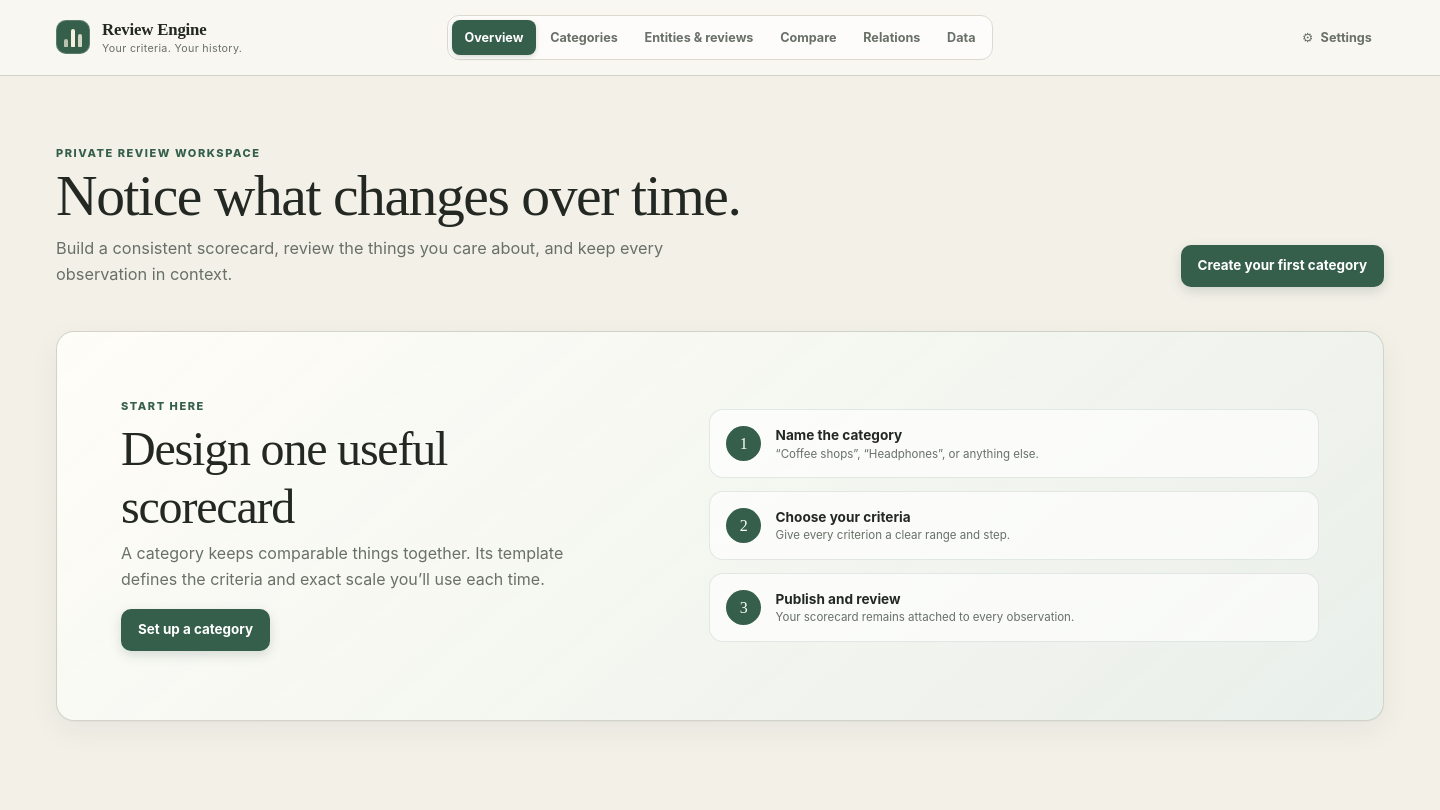
Test case: reference UI shell › updates the hash when a page action navigates programmatically
This screenshot has width=1440, height=810.
Click the button "Set up a category". click: click(196, 630)
box: left=121, top=609, right=270, bottom=651
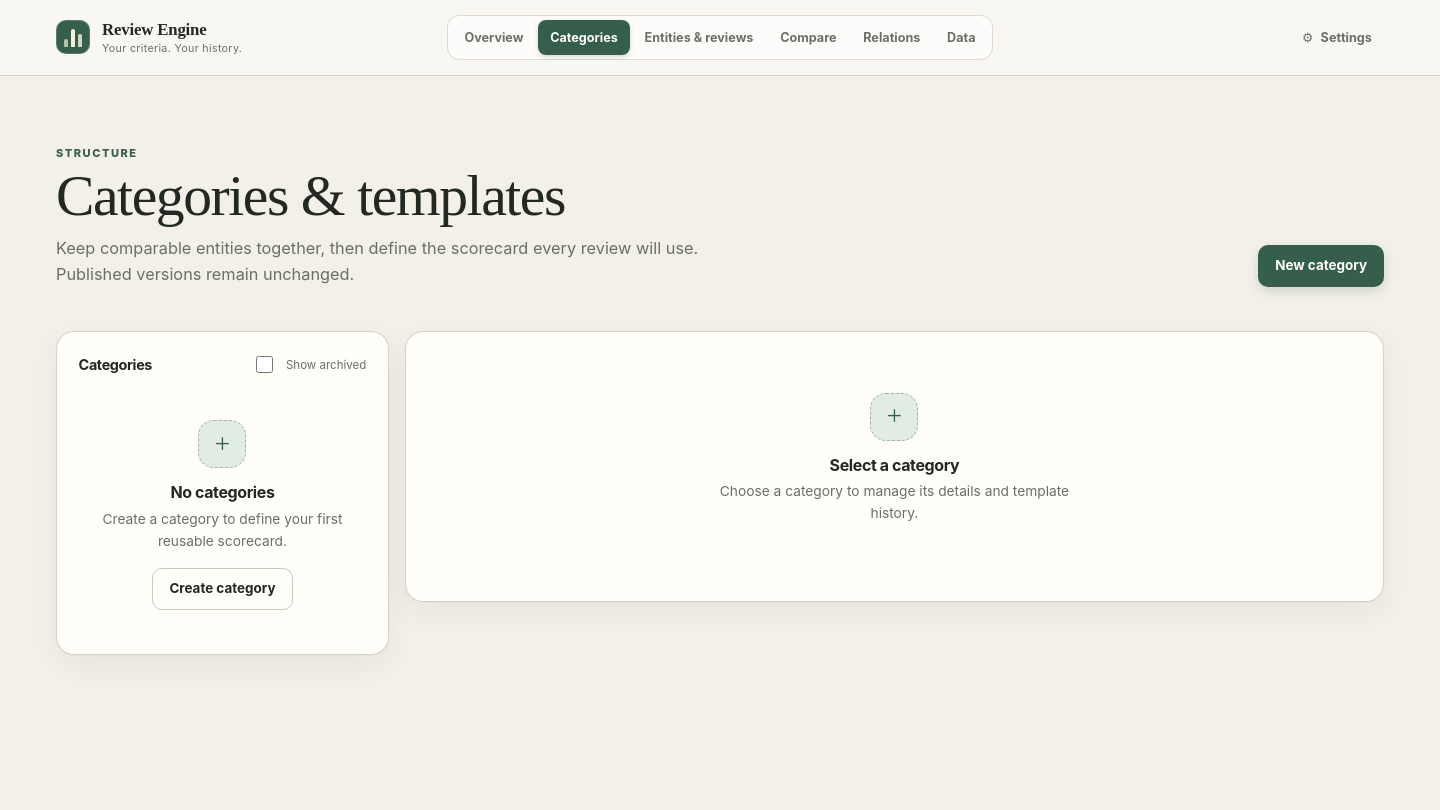
expect the heading "Categories & templates" is shown: met, box left=56, top=164, right=565, bottom=227
